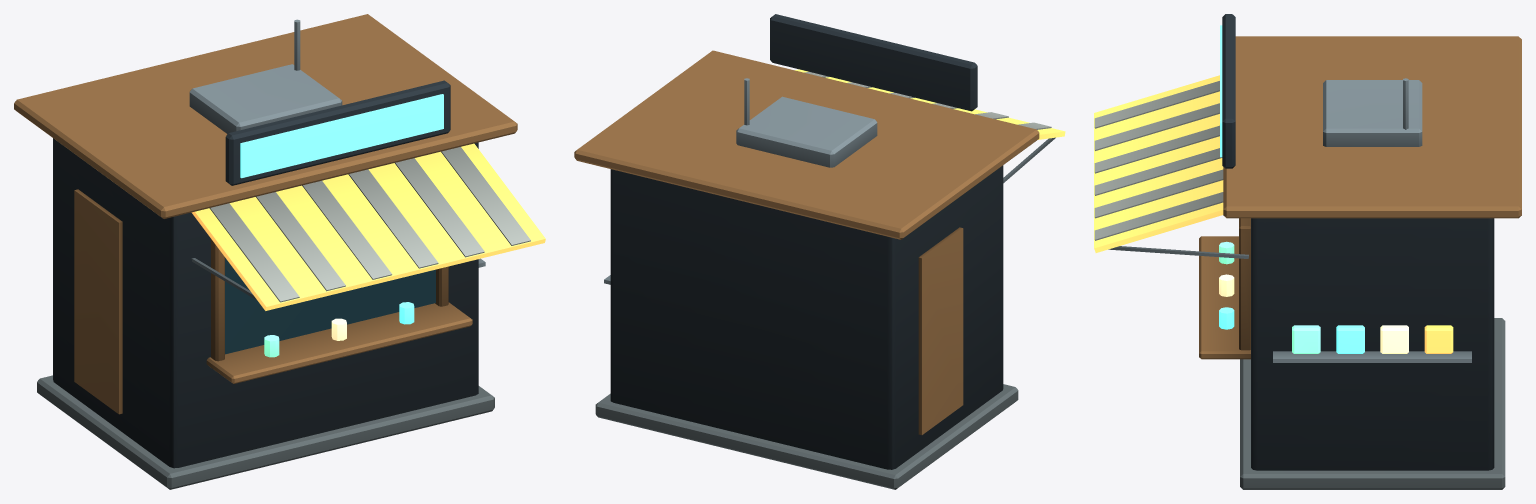
File: kiosk.lod0.glb
3 views of the same model, side by side, from view 1: azimuth 30°, elevation 25°; view 2: azimuth 150°, elevation 25°; view 3: azimuth 270°, elevation 25° (orthographic). The views are drawn at different scales.
Parts seen in each view (by area): view 1: structure; view 2: structure; view 3: structure.
Part boxes in pixels (x1,y1,x2,y2): structure: (14,14,545,489); structure: (574,14,1065,489); structure: (1094,14,1521,489).
Size of the model in its own units: 3.7 by 3.55 by 3.87.
